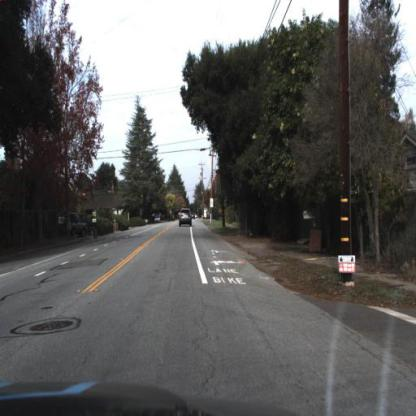car: (63, 214, 91, 240), (179, 208, 196, 231)
